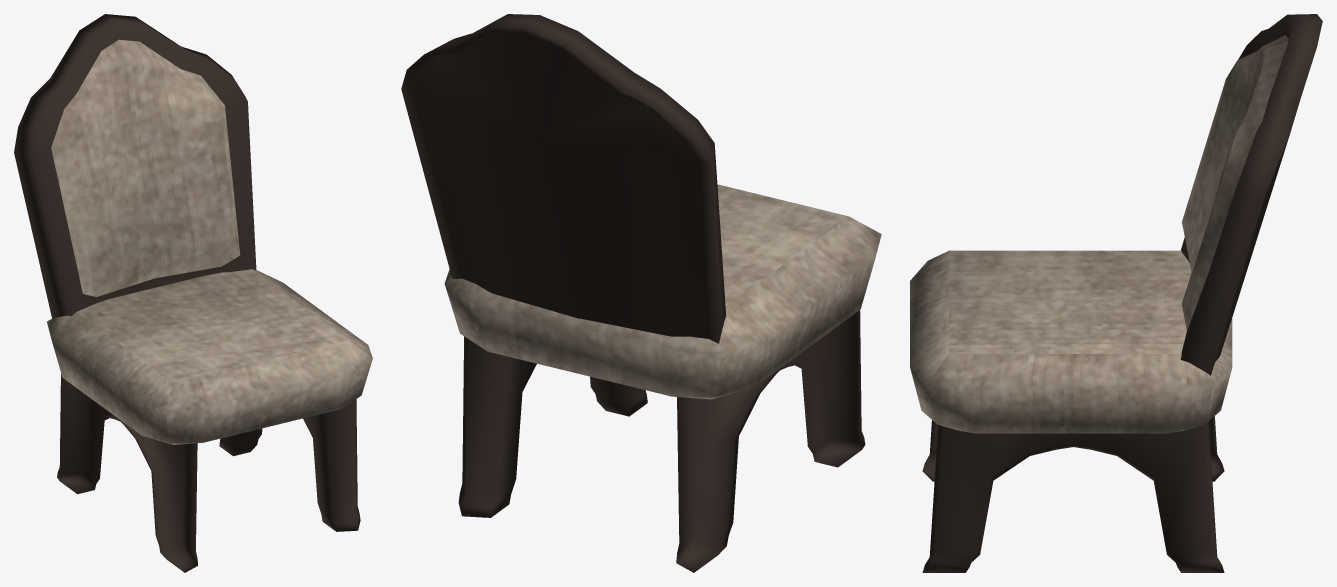
The model's file is chairtest.fbx.
3 views of the same model, side by side, from view 1: azimuth 30°, elevation 25°; view 2: azimuth 150°, elevation 25°; view 3: azimuth 270°, elevation 25° (orthographic). The views are drawn at different scales.
Parts seen in each view (by area): view 1: chairtest; view 2: chairtest; view 3: chairtest.
Boxes of the visible parts, x1=… form: chairtest: x1=14, y1=14, x2=372, y2=572; chairtest: x1=401, y1=14, x2=881, y2=572; chairtest: x1=910, y1=14, x2=1322, y2=572.
Bounding box in the file's own units: 0.7592 × 1.3 × 0.9727.
